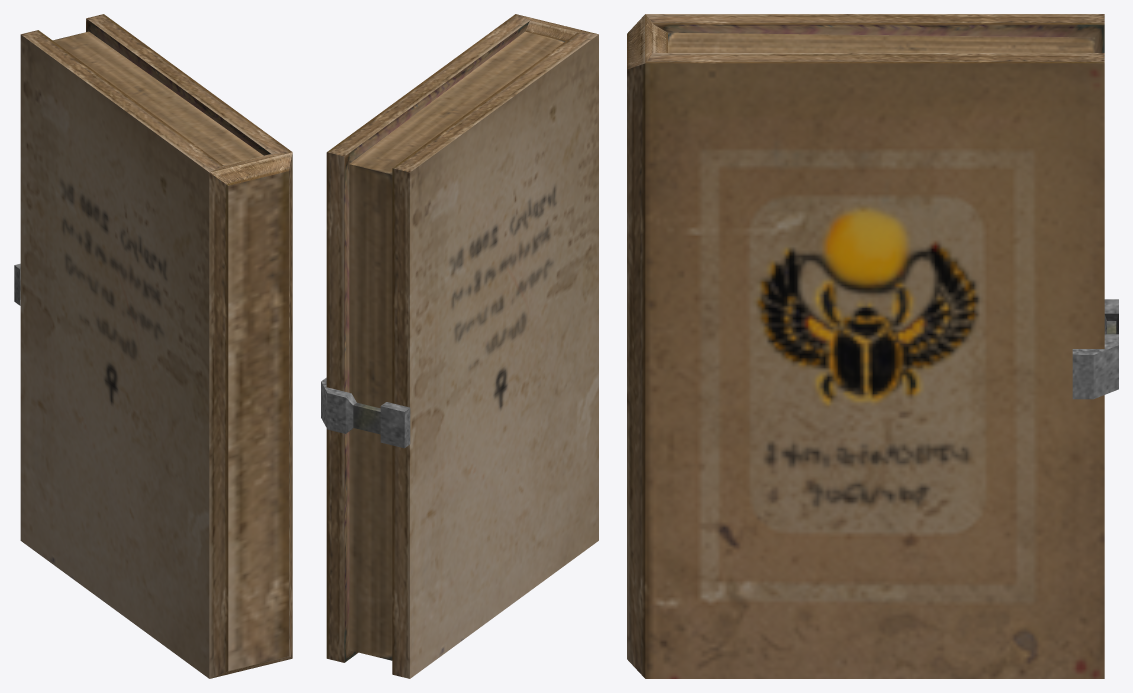
Rendered from Book.fbx.
The picture shows the model from 3 angles, left to right: view 1: azimuth 30°, elevation 25°; view 2: azimuth 150°, elevation 25°; view 3: azimuth 270°, elevation 25°; orthographic projection. The views are drawn at different scales.
Parts seen in each view (by area): view 1: Book; view 2: Book, BookLock; view 3: Book, BookLock.
Boxes of the visible parts, left/top/right/bottom form: Book: left=20, top=14, right=292, bottom=678; Book: left=326, top=14, right=598, bottom=678; BookLock: left=321, top=377, right=410, bottom=448; Book: left=627, top=14, right=1104, bottom=678; BookLock: left=1072, top=299, right=1118, bottom=399.
Size of the model in its own units: 57.42 by 296 by 214.
